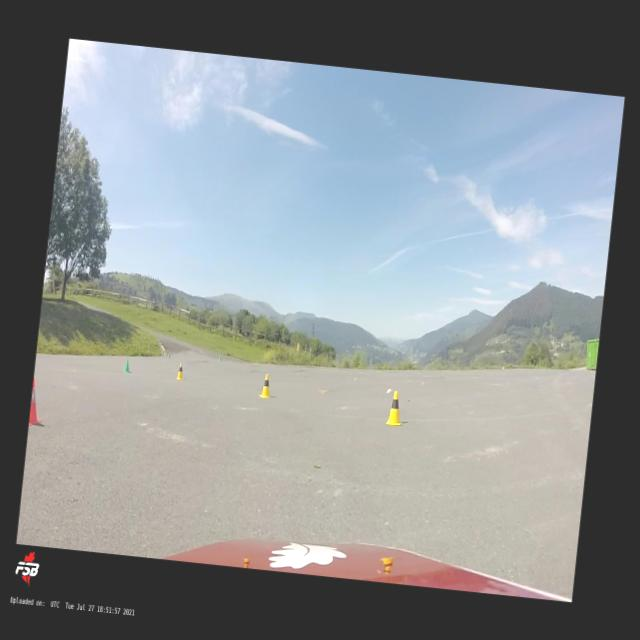orange_cone: (28, 378, 45, 426)
unknown_cone: (124, 359, 130, 372), (218, 354, 222, 361), (167, 352, 170, 358)
yellow_cone: (384, 390, 404, 426), (259, 373, 272, 398), (176, 362, 184, 380)
